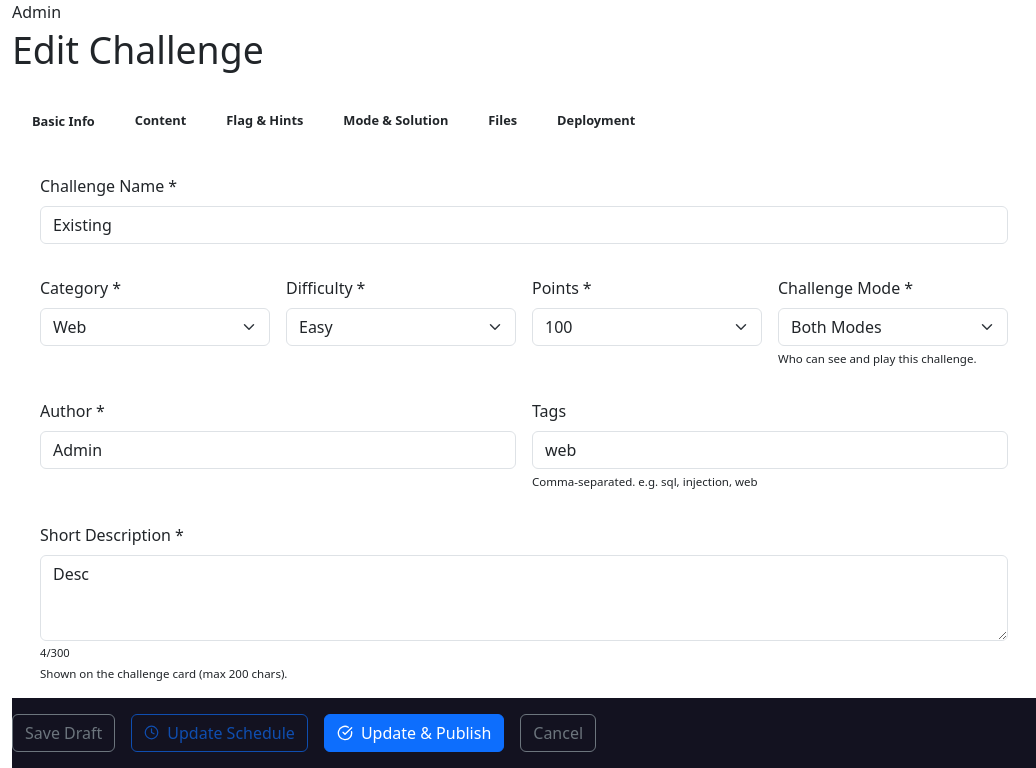
Test: Phase 4E admin mode content authoring › loads existing mode content in edit and populates sections
Expected: the field showing "Existing" below "Challenge Name" is shown, [40,206,1008,244]
Click the button "Mode & Solution" at (396, 121), box [323,97,468,146]
(page scrolled)
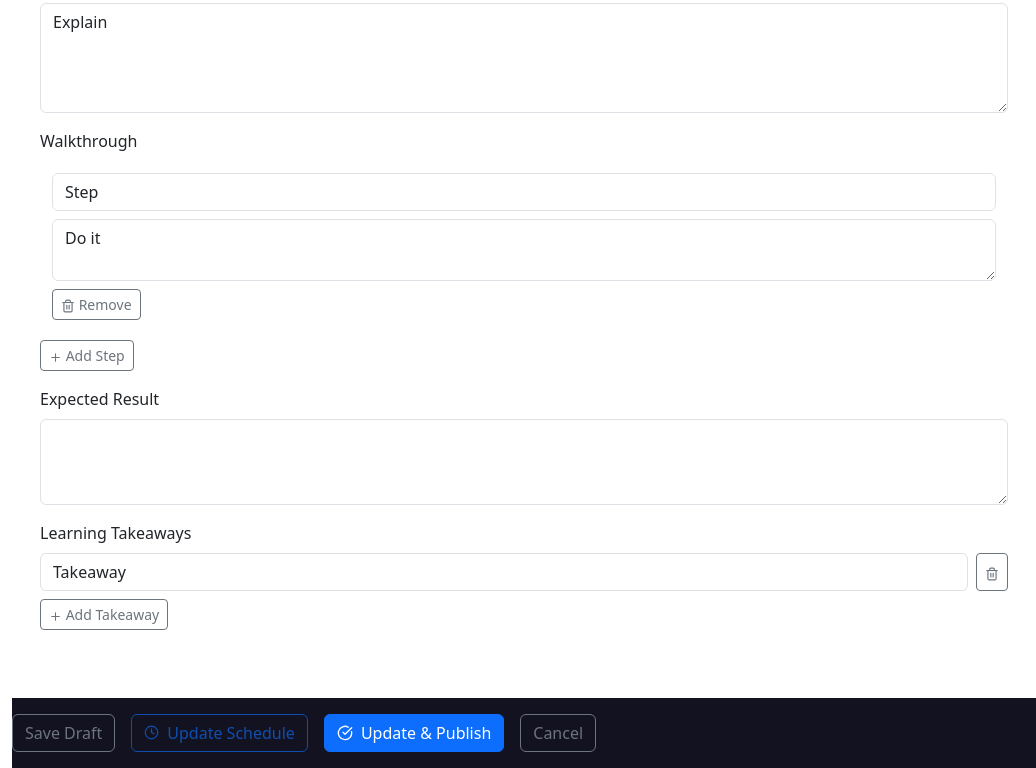
Expected: the text box showing "Explain" below "Explanation" is shown, [40,3,1008,113]
Expected: the field showing "Takeaway" below "Learning Takeaways" is shown, [40,553,968,591]
